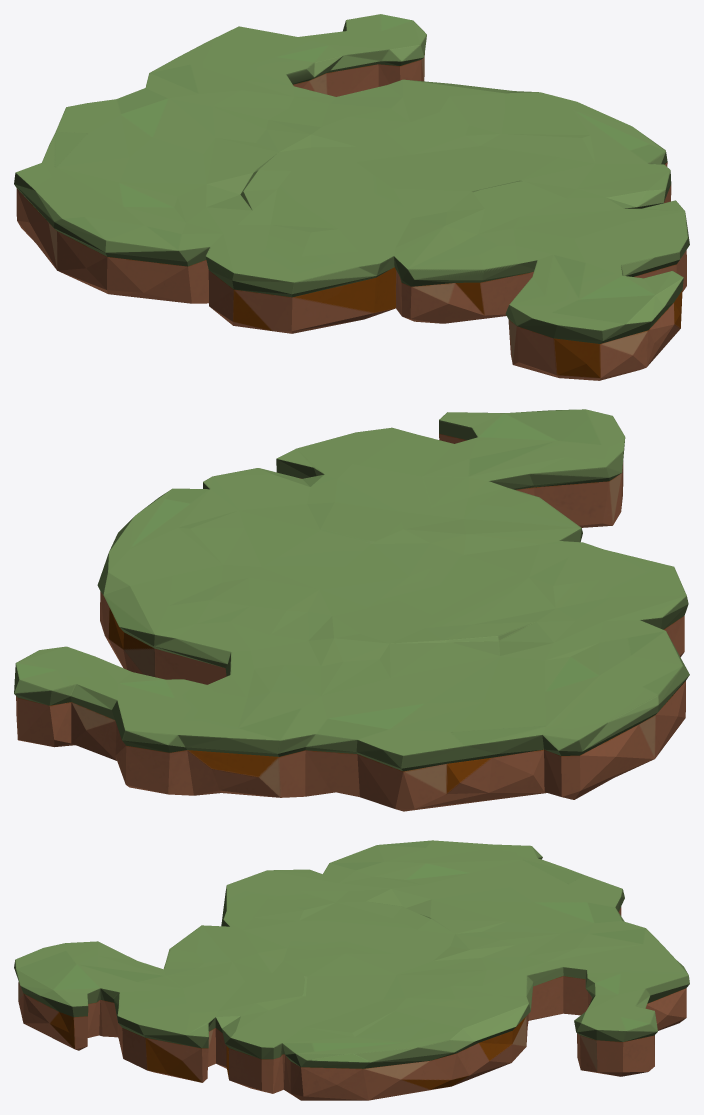
Rendered from low_poly_island.glb.
3 renders of one model, top to bottom at view 1: azimuth 30°, elevation 25°; view 2: azimuth 150°, elevation 25°; view 3: azimuth 270°, elevation 25°, orthographic. The views are drawn at different scales.
Visible parts, largest first — view 1: floating_island_1.1_1; view 2: floating_island_1.1_1; view 3: floating_island_1.1_1.
Part boxes in pixels (x1,y1,x2,y2): floating_island_1.1_1: [14, 14, 689, 380]; floating_island_1.1_1: [14, 409, 689, 811]; floating_island_1.1_1: [14, 840, 689, 1100].
Size of the model in its own units: 0.1945 by 0.0204 by 0.2557.
Materials: 1 (1 with a texture image).
